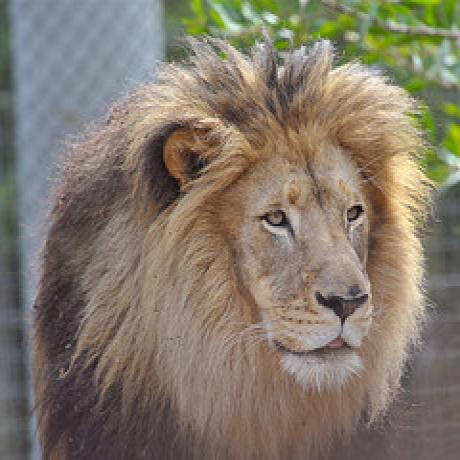Lion: (31, 31, 443, 460)
